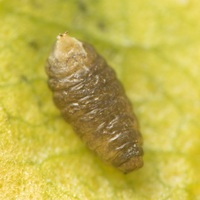insect: (46, 33, 142, 172)
